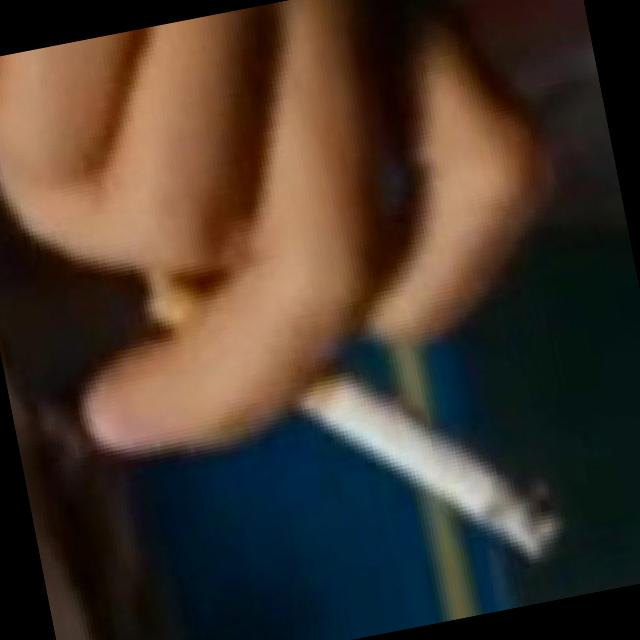cigarette: (281, 328, 578, 616)
